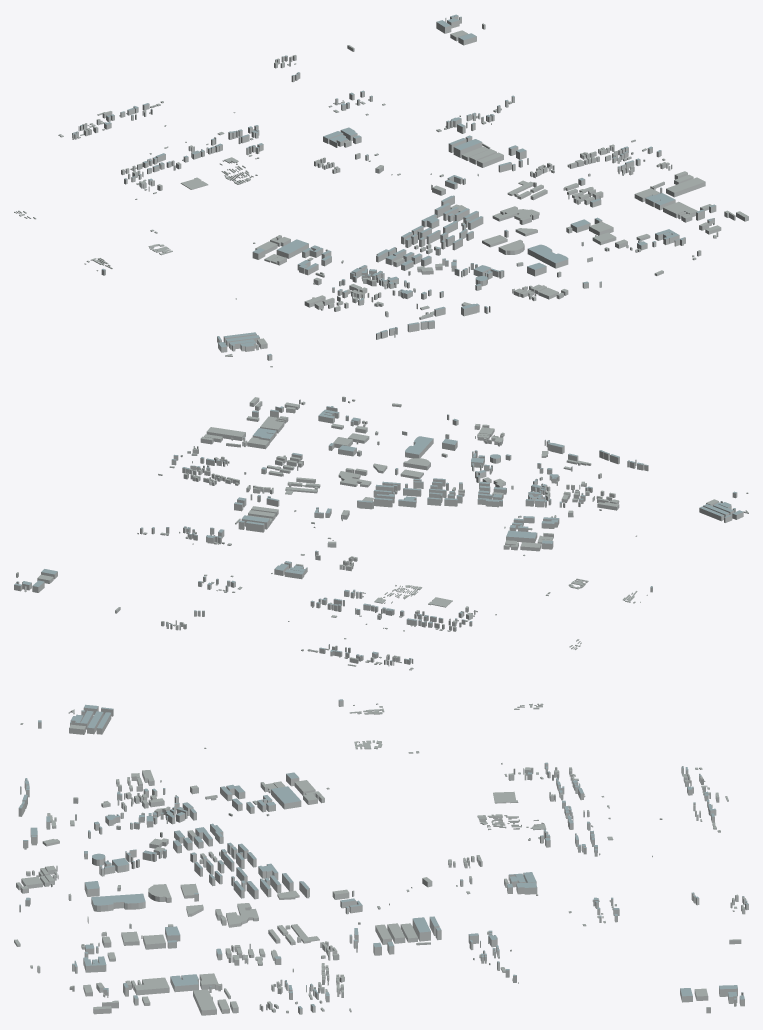
Rendered from far.glb.
3 views of the same model, one above another, from view 1: azimuth 30°, elevation 25°; view 2: azimuth 150°, elevation 25°; view 3: azimuth 270°, elevation 25° (orthographic). The views are drawn at different scales.
Size of the model in its own units: 2108 by 30.2 by 2102.
